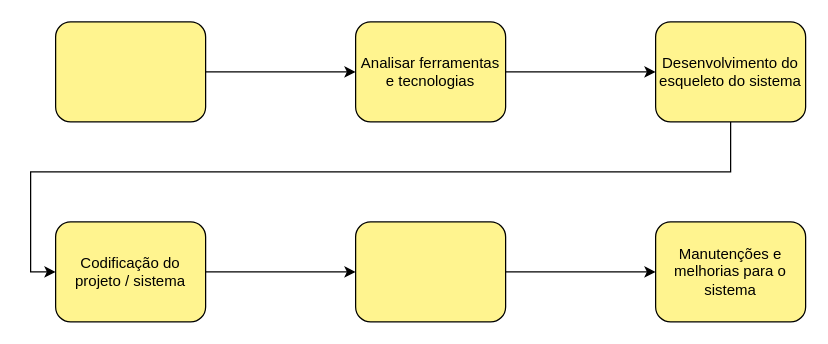
The diagram is 828 pixels wide and 344 high, and some of its shapes have lost their labels. Here are the shapes that lost their labels. From the top down, the box of each, then its label:
(54, 21, 206, 122): Definir projeto ( esboço, tema )
(354, 221, 506, 322): Verificação do sistema na codificação
